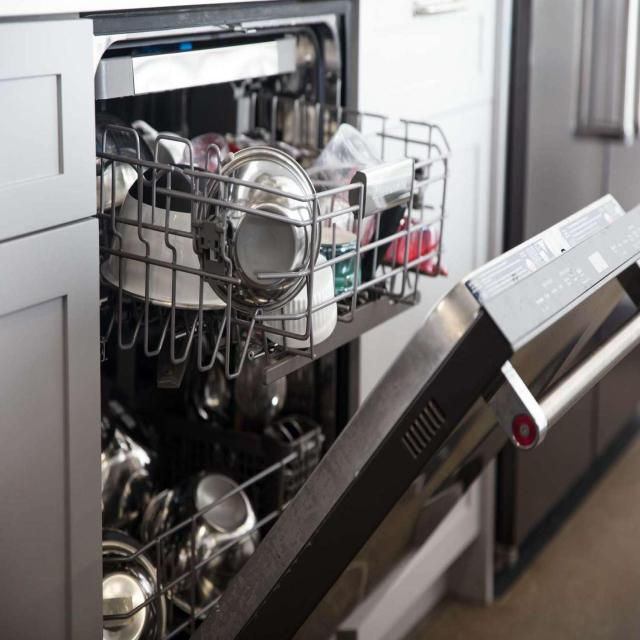dishwasher: (78, 3, 640, 640)
